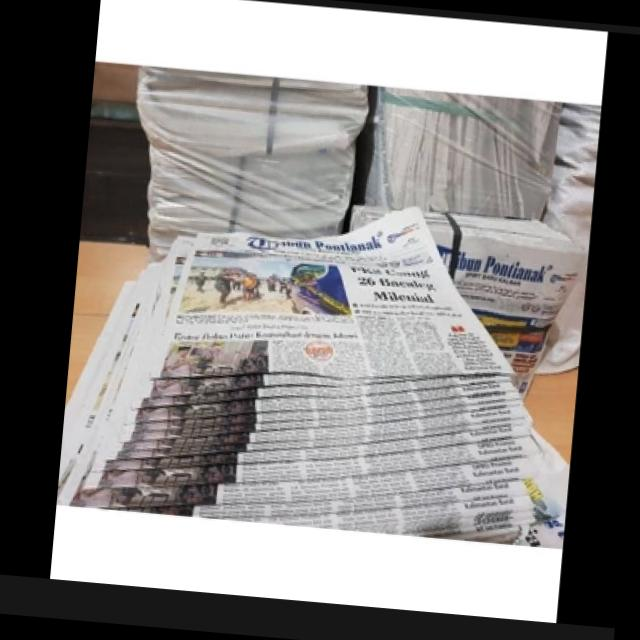Koran: (56, 177, 590, 548)
